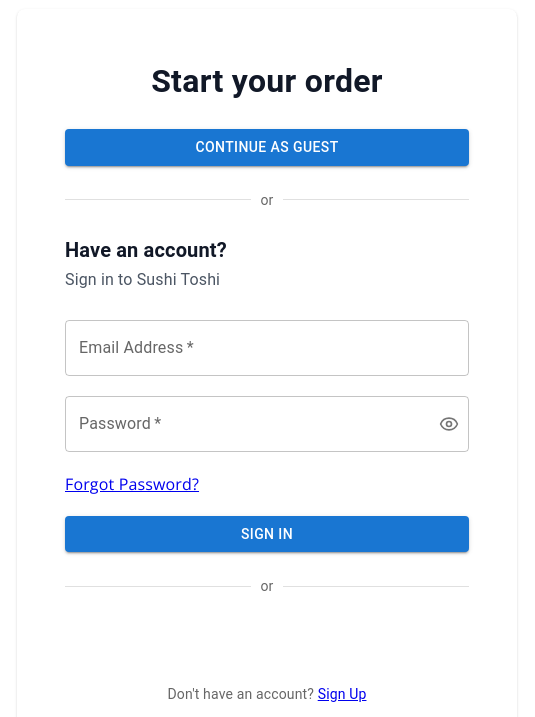
LoginForm › Guest Login › tells guests to ask staff when the table hasn't been started
The width and height of the screenshot is (535, 717).
Click the button "Continue as Guest" at coordinates (267, 147), box [65,129,469,166]
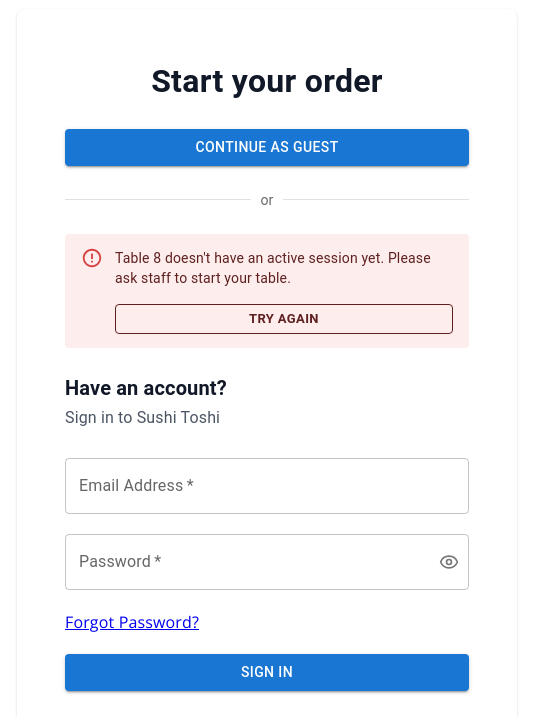
Result: the text "Please ask staff to start your table" is shown at [115,250,431,286]
